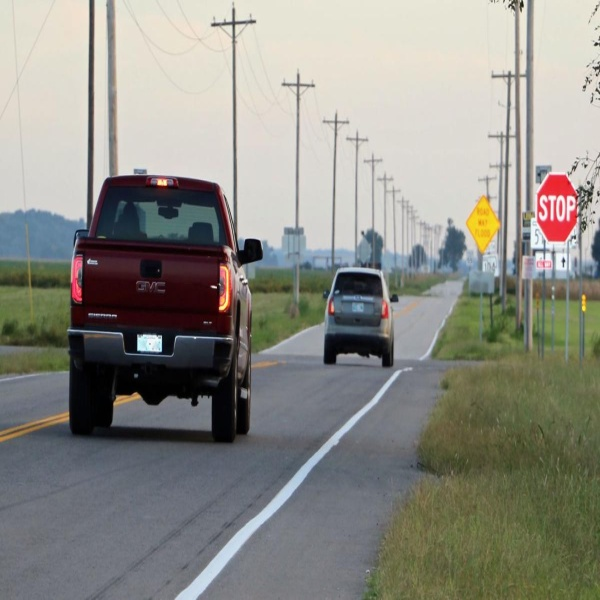stop: (535, 172, 581, 245)
